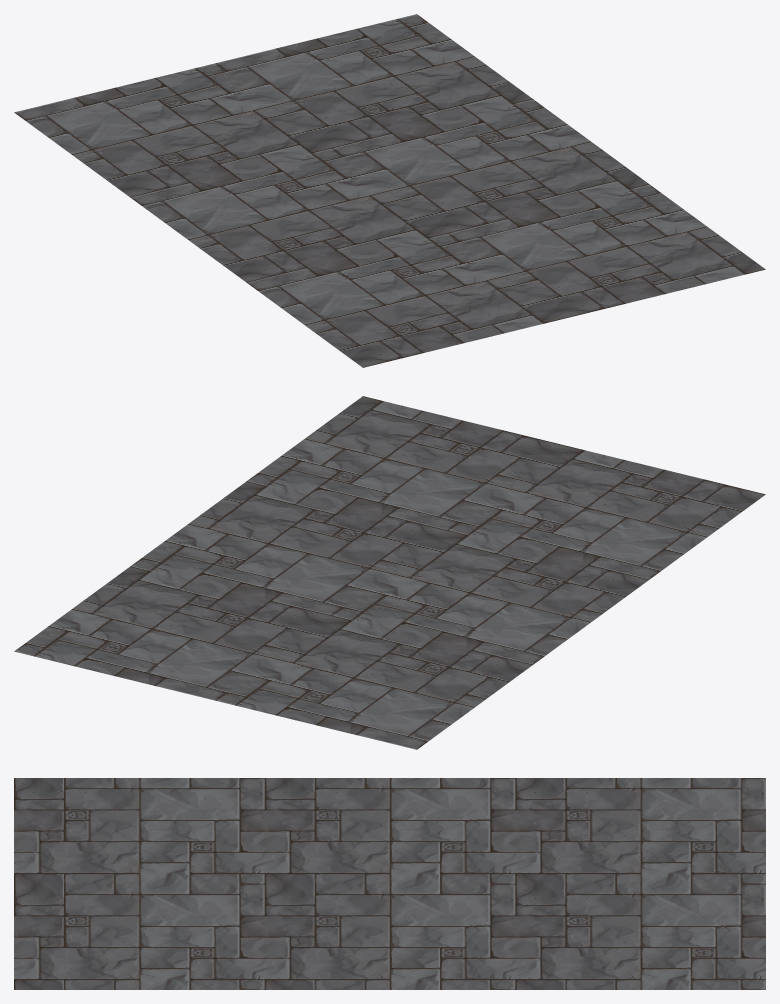
The model's file is ground.glb.
3 renders of one model, top to bottom at view 1: azimuth 30°, elevation 25°; view 2: azimuth 150°, elevation 25°; view 3: azimuth 270°, elevation 25°, orthographic. The views are drawn at different scales.
Visible parts, largest first — view 1: ground; view 2: ground; view 3: ground.
Boxes of the visible parts, box(x1,y1,x2,y2) form: ground: box(14, 14, 765, 367); ground: box(14, 396, 765, 749); ground: box(14, 778, 765, 989).
Size of the model in its own units: 3.33 by 1.69e-06 by 5.
1 material, 1 textured.
